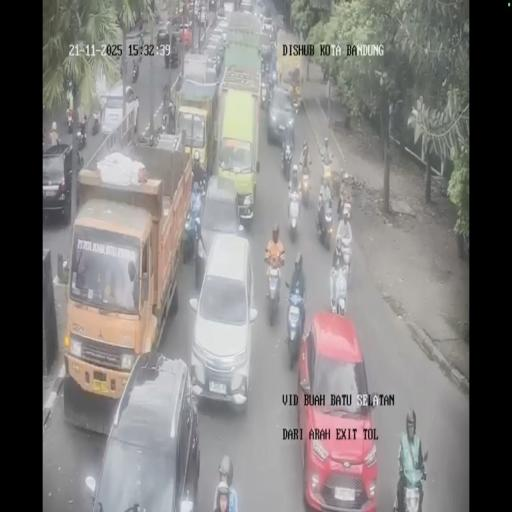car: (188, 233, 258, 408), (198, 172, 242, 264), (42, 142, 78, 224), (101, 84, 138, 140), (203, 38, 225, 81), (214, 16, 230, 42), (260, 38, 273, 68), (260, 16, 274, 40), (156, 25, 170, 48), (197, 3, 207, 25), (222, 0, 235, 16), (254, 0, 266, 17), (171, 11, 181, 27), (240, 0, 252, 13)
motorcycle: (284, 289, 306, 365), (264, 257, 283, 323), (329, 256, 348, 316), (315, 196, 333, 248), (286, 185, 302, 240), (162, 90, 176, 134), (337, 186, 352, 221), (281, 140, 293, 181), (320, 156, 333, 193), (169, 32, 181, 68), (300, 169, 310, 206), (76, 117, 86, 151), (91, 109, 100, 136), (260, 80, 268, 109), (131, 58, 139, 82), (67, 112, 73, 134)
truck: (63, 134, 192, 414), (173, 72, 218, 178), (221, 7, 263, 85), (278, 37, 304, 109)
